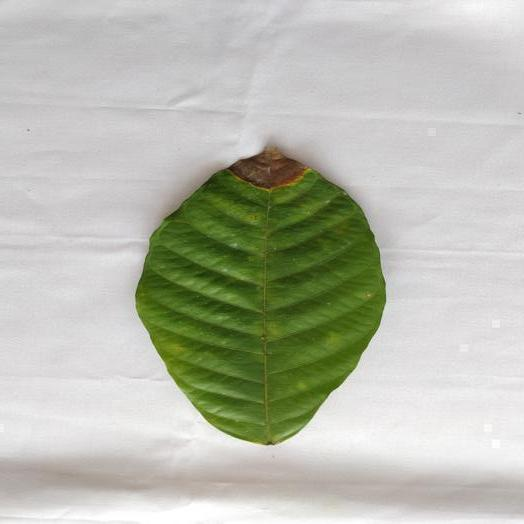Potassium: (135, 148, 385, 444)
